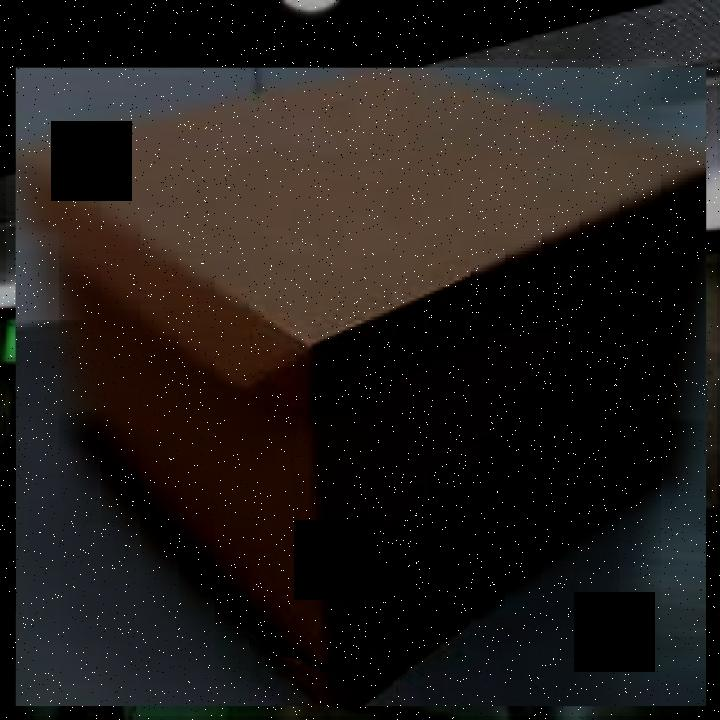box: (6, 59, 717, 716)
